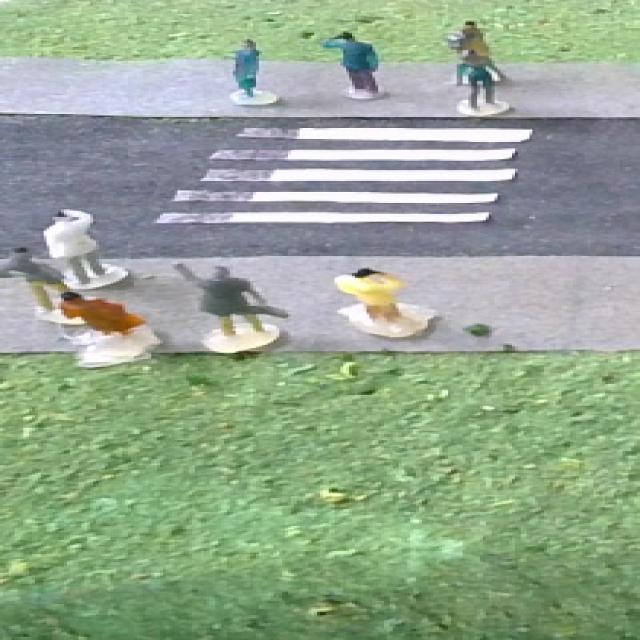person: (172, 262, 290, 355), (54, 288, 162, 366), (331, 260, 439, 338), (44, 205, 132, 292), (320, 30, 389, 101), (2, 242, 61, 323), (223, 36, 284, 109), (455, 49, 510, 119), (446, 20, 494, 48)
